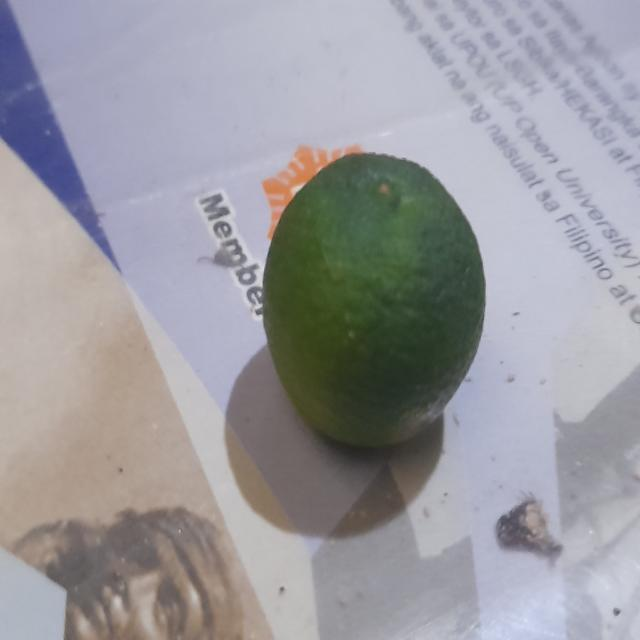heathy: (259, 149, 486, 465)
